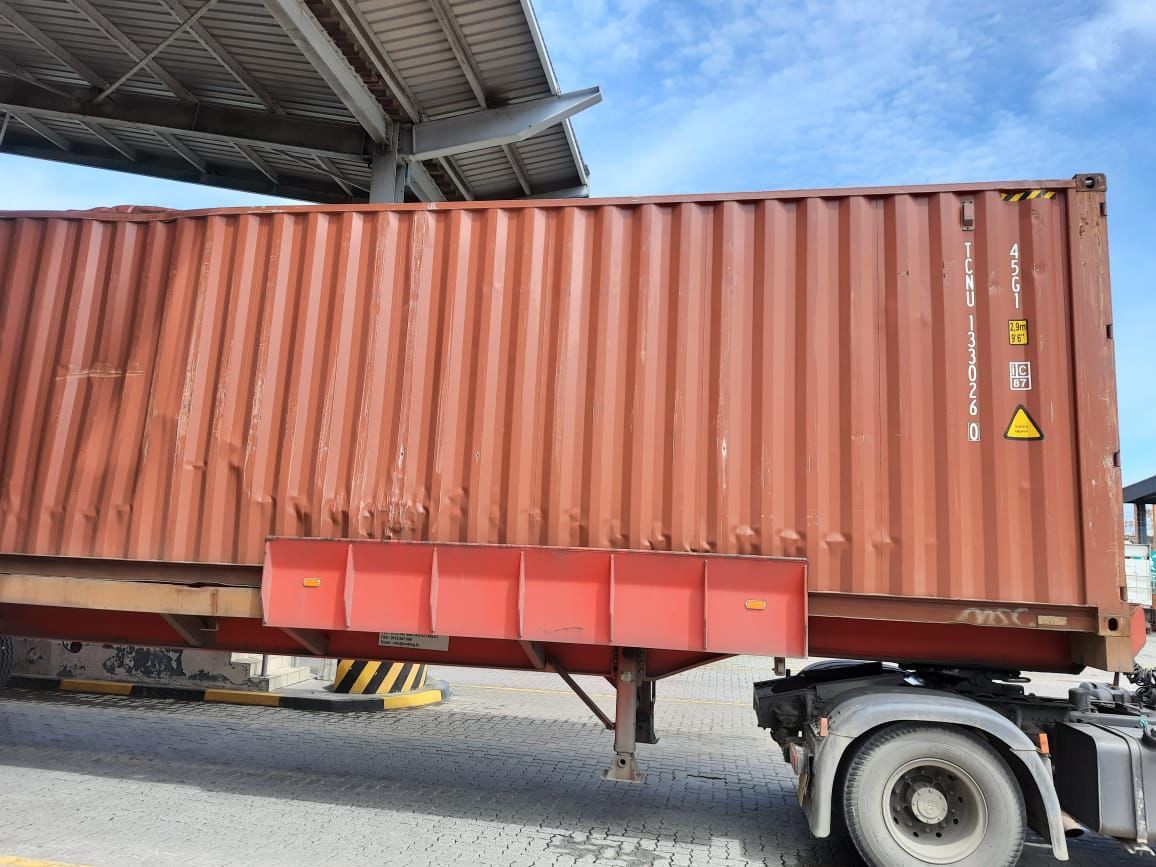bulged: (246, 478, 443, 536)
dented: (558, 505, 912, 560), (21, 504, 138, 526)
